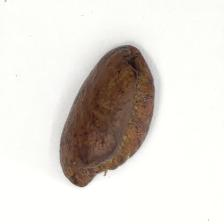NG: (78, 42, 140, 156), (78, 158, 131, 189)
